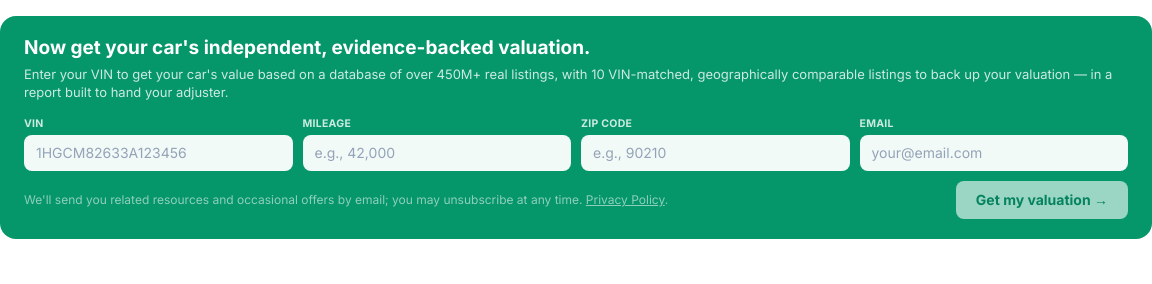
ArticleReportBar › form validation › shows a validation warning and does not submit when submitted without a valid email
Type "1HGBH41JXMN109186" into the field with placeholder "1HGCM82633A123456" at (158, 153), box [24,135,292,171]
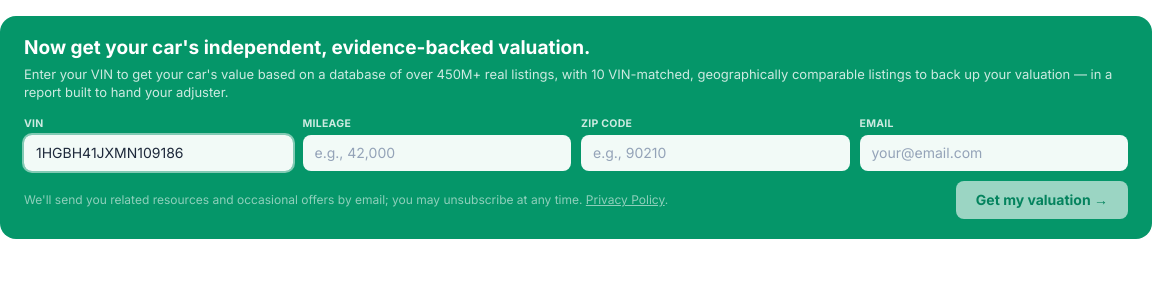
Type "42000" into the field with placeholder "e.g., 42,000" at (437, 153), box [302,135,571,171]
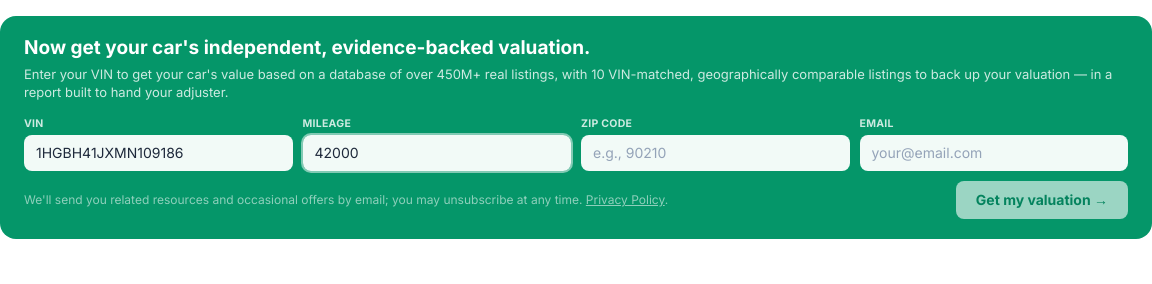
Type "90210" into the field with placeholder "e.g., 90210" at (715, 153), box [581,135,850,171]
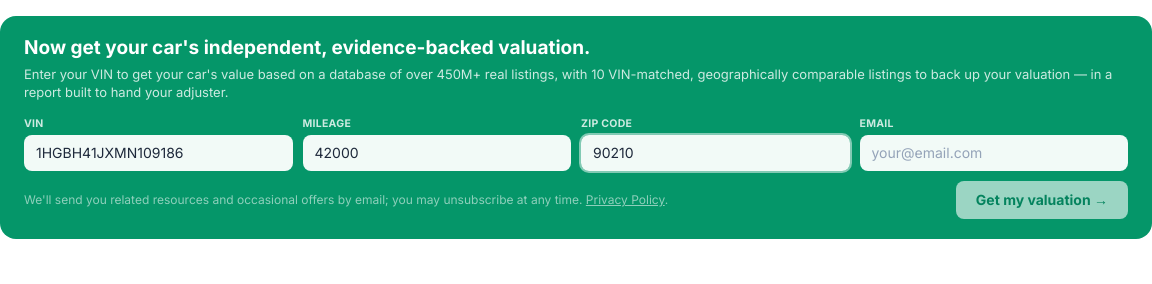
Submit the form labelled "Email", box [24,116,1128,219]
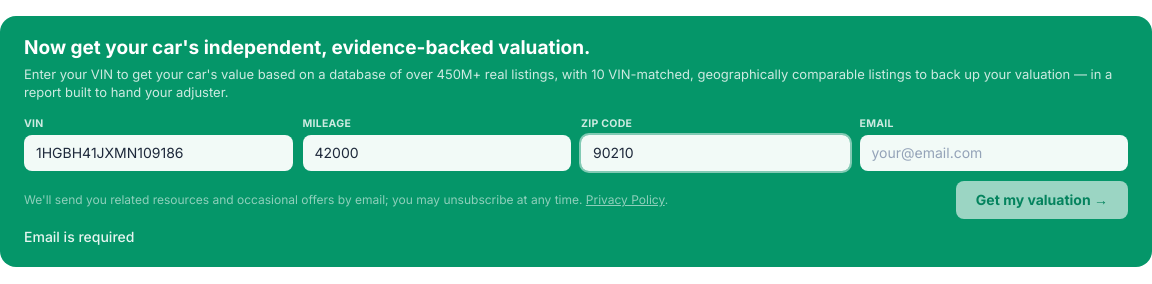
Check: the text "Email is required" is shown, box [24,228,134,245]
